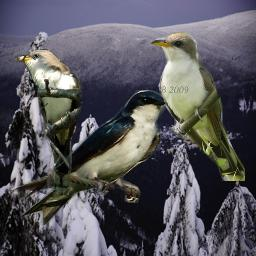Cuckoo: (150, 31, 245, 181), (13, 49, 83, 195)
Swallow: (10, 90, 166, 226)
